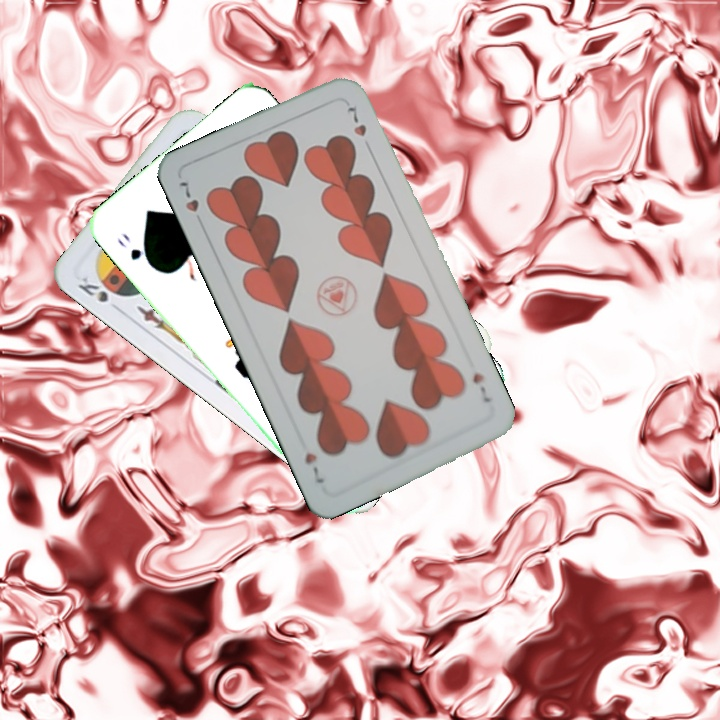GO: (113, 229, 156, 270)
H7: (174, 175, 207, 230), (468, 368, 496, 405)
SK: (74, 272, 111, 305)
